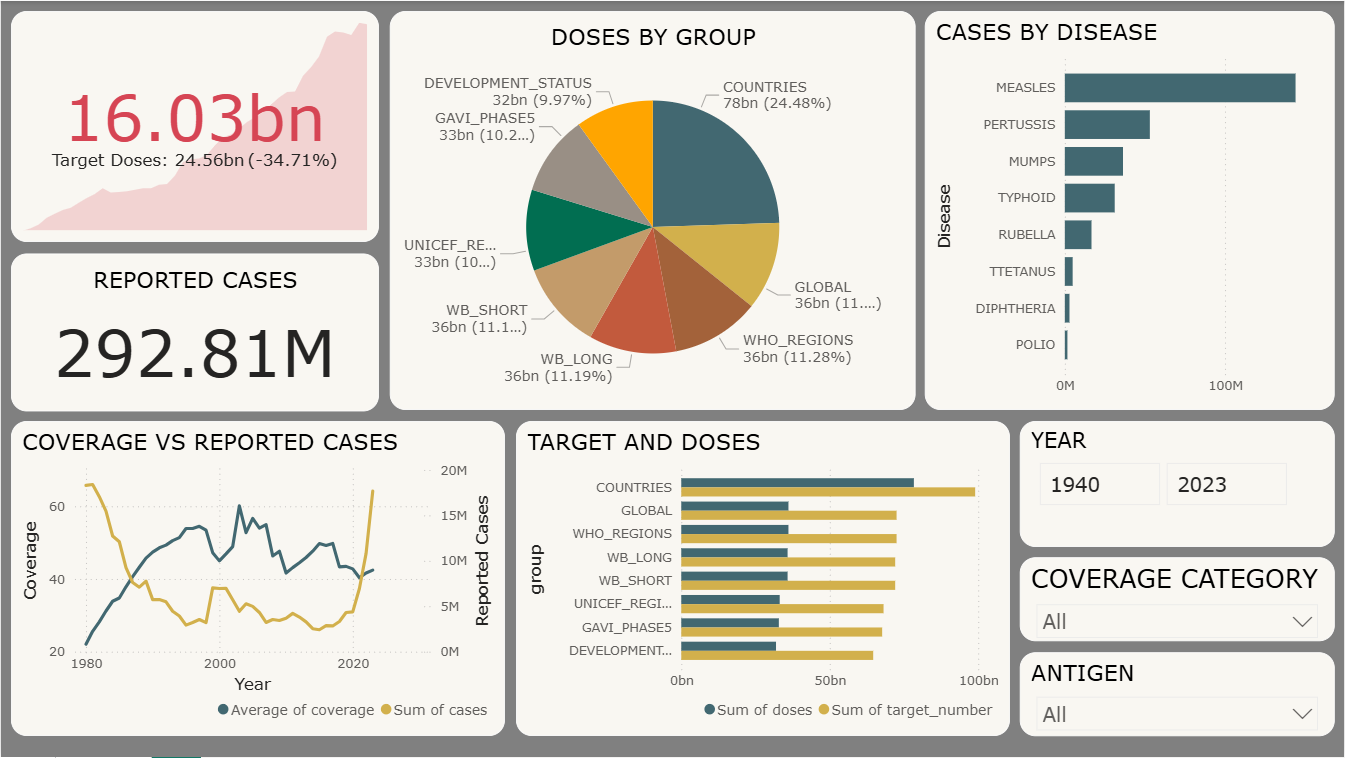

The page's visual inventory and layout, read from the dashboard file:
{"tool":"powerbi","page":{"name":"Page 1","canvas":[1280,720],"ordinal":0},"visuals":[{"type":"pieChart","title":"DOSES BY GROUP","fields":{"Y":["Sum(public coverage.doses)"],"Category":["public region.Region Hierarchy.group","public region.Region Hierarchy.name"]},"box":[370,9.7,500.7,380],"z":0},{"type":"slicer","title":"ANTIGEN","fields":{"Values":["public coverage.antigen"]},"box":[970,620,300,80],"z":1000},{"type":"slicer","title":"YEAR","fields":{"Values":["YEARS.Value"]},"box":[970,400,300,120],"z":2000},{"type":"slicer","title":"COVERAGE CATEGORY","fields":{"Values":["public coverage.coverage_category"]},"box":[970,530,300,80],"z":3000},{"type":"kpi","fields":{"Indicator":["Sum(public coverage.doses)"],"TrendLine":["public coverage.year"],"Goal":["Sum(public coverage.target_number)"]},"box":[10,10,350,220],"z":4000},{"type":"card","title":"REPORTED CASES","fields":{"Values":["Sum(public reported_cases.cases)"]},"box":[10,240,350,150],"z":5000},{"type":"lineChart","title":"COVERAGE VS REPORTED CASES","fields":{"Y":["Avg(public coverage.coverage)"],"Y2":["Sum(public reported_cases.cases)"],"Category":["YEARS.Value"]},"box":[10,400,470,300],"z":6000},{"type":"clusteredBarChart","title":"TARGET AND DOSES","fields":{"Category":["public region.Region Hierarchy.group","public region.Region Hierarchy.name"],"Y":["Sum(public coverage.doses)","Sum(public coverage.target_number)"]},"box":[490,400,470,300],"z":7000},{"type":"clusteredBarChart","title":"CASES BY DISEASE","fields":{"Category":["public reported_cases.disease"],"Y":["Sum(public reported_cases.cases)"]},"box":[880,9.6,390,380.1],"z":8000}]}

Visuals, with their boxes in screenshot pixels (x1, y1, x2, y2), scaled from the page's 1280x720 canvas onto the 1345x758 screenshot:
"DOSES BY GROUP" pieChart: [left=389, top=10, right=915, bottom=410]
"ANTIGEN" slicer: [left=1019, top=653, right=1334, bottom=737]
"YEAR" slicer: [left=1019, top=421, right=1334, bottom=547]
"COVERAGE CATEGORY" slicer: [left=1019, top=558, right=1334, bottom=642]
kpi - Sum(public coverage.doses) x public coverage.year: [left=11, top=11, right=378, bottom=242]
"REPORTED CASES" card: [left=11, top=253, right=378, bottom=411]
"COVERAGE VS REPORTED CASES" lineChart: [left=11, top=421, right=504, bottom=737]
"TARGET AND DOSES" clusteredBarChart: [left=515, top=421, right=1009, bottom=737]
"CASES BY DISEASE" clusteredBarChart: [left=925, top=10, right=1334, bottom=410]
